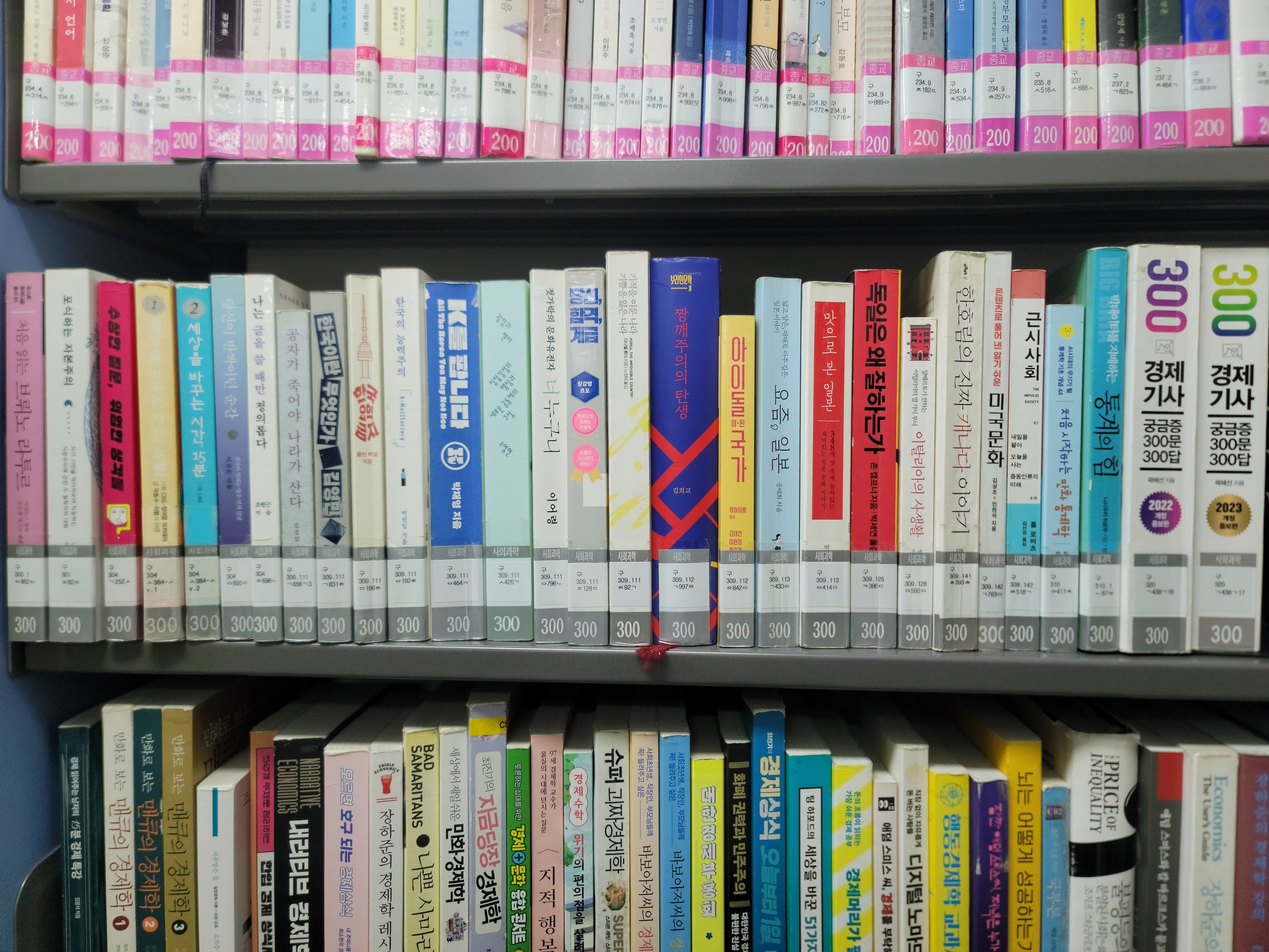book-spine: (1122, 246, 1201, 654), (1192, 249, 1268, 655), (651, 258, 719, 647), (425, 283, 485, 645), (798, 283, 853, 648), (849, 271, 900, 650), (480, 283, 533, 645), (44, 269, 95, 643), (1083, 249, 1128, 653), (380, 269, 428, 642), (607, 253, 652, 646), (940, 253, 984, 653), (134, 282, 181, 643), (565, 269, 609, 647), (174, 287, 220, 641), (1004, 270, 1046, 652), (1039, 306, 1085, 653), (210, 276, 253, 642), (759, 280, 801, 648), (345, 278, 387, 645), (5, 276, 47, 641), (309, 293, 352, 643), (97, 282, 138, 641), (976, 253, 1012, 651), (243, 276, 282, 643), (531, 270, 569, 644), (274, 311, 316, 641), (899, 318, 938, 648), (719, 316, 755, 646)
